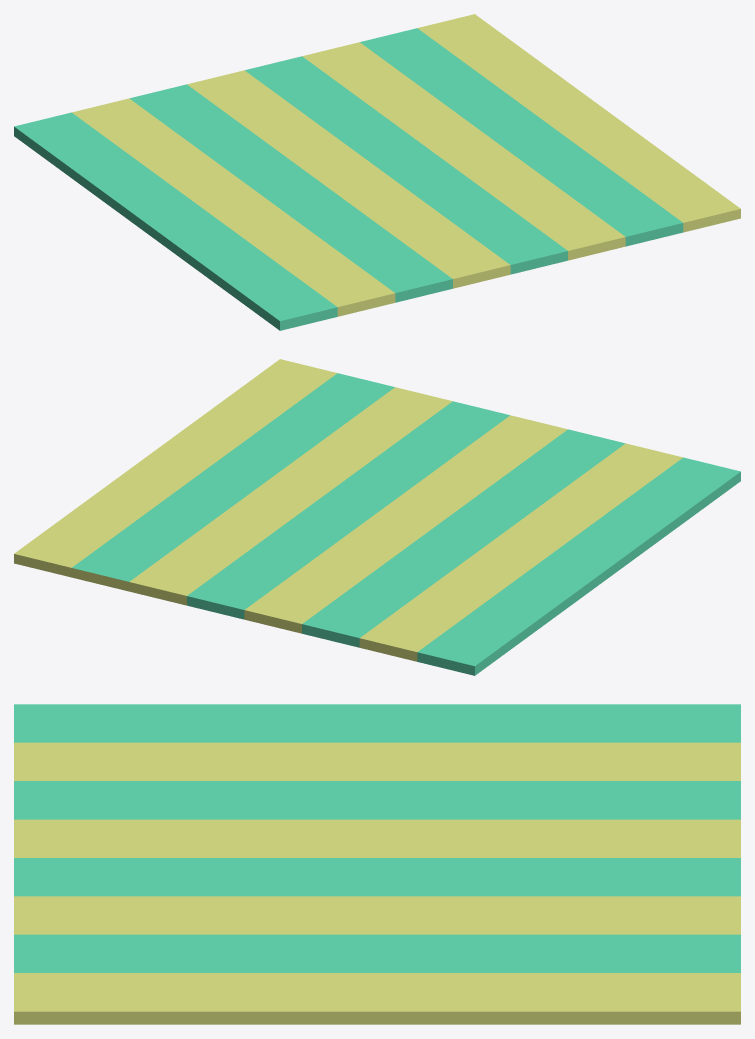
Rendered from StageT1R.fbx.
The picture shows the model from 3 angles, top to bottom: view 1: azimuth 30°, elevation 25°; view 2: azimuth 150°, elevation 25°; view 3: azimuth 270°, elevation 25°; orthographic projection. The views are drawn at different scales.
Visible parts, largest first — view 1: 立方体.002; view 2: 立方体.002; view 3: 立方体.002.
Part boxes in pixels (x1,y1,x2,y2): 立方体.002: (14,14,740,330); 立方体.002: (14,359,740,675); 立方体.002: (14,704,740,1024).
Bounding box in the file's own units: 5 × 0.1 × 5.
